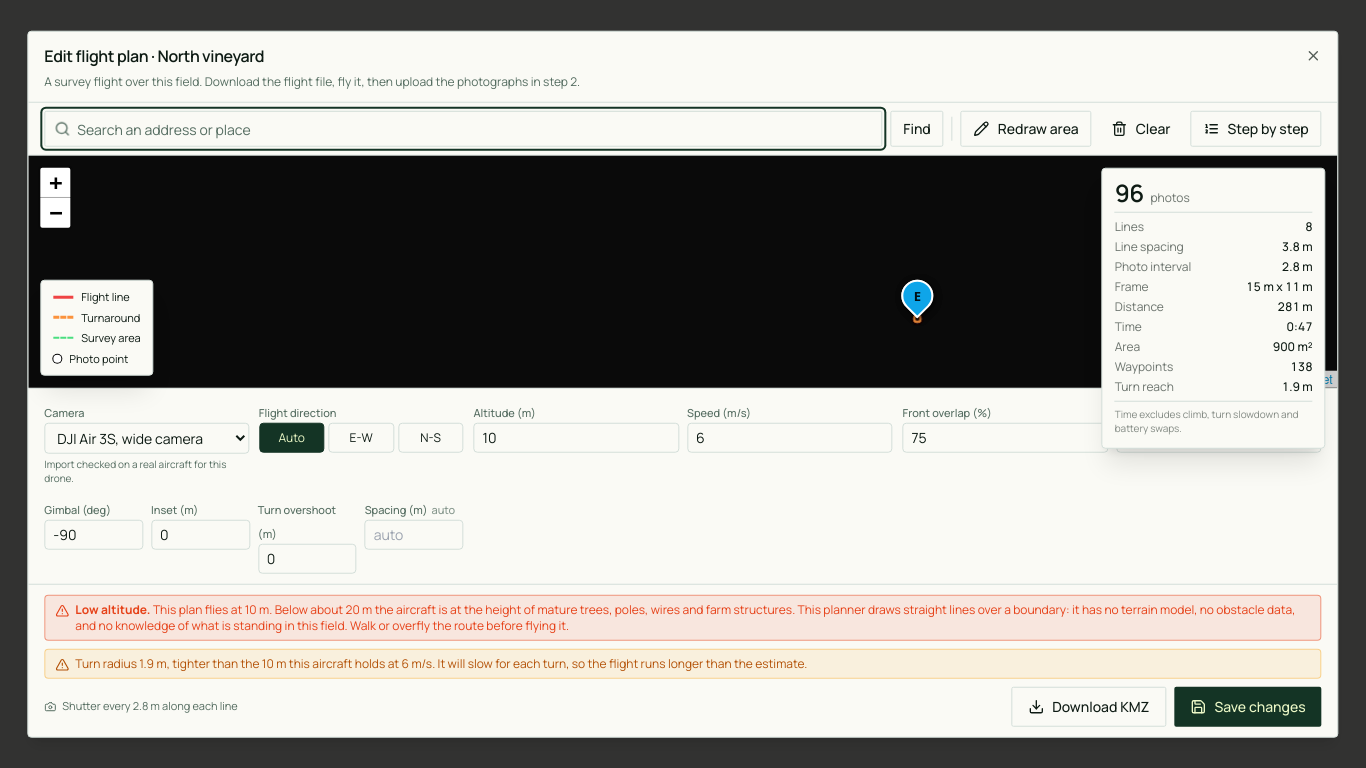
Scenario: the confirmation the operator has to answer › does not save until the confirmation is answered
Later steps or results of the test are not shown.
Click the button "Save changes" at x=1248, y=706, box [1174,686,1322,726]
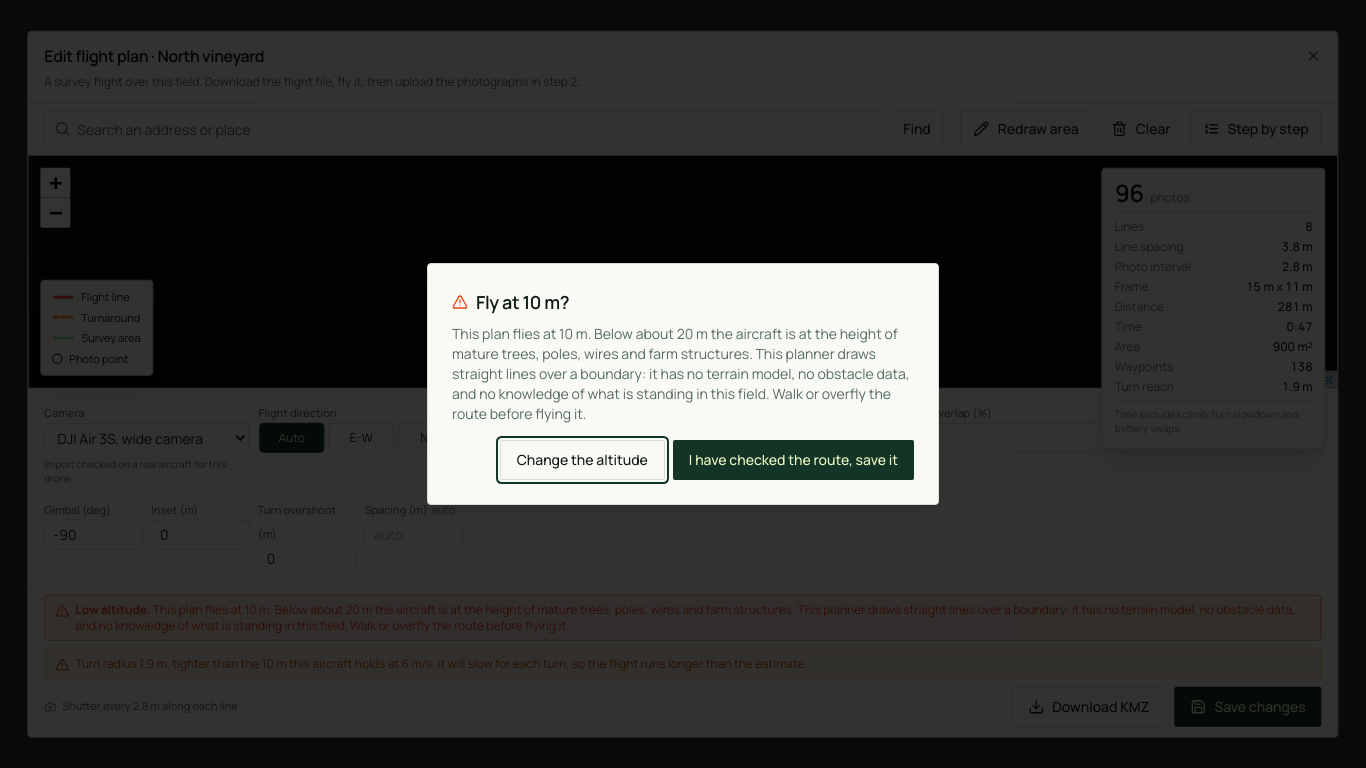
expect the dialog that starts with "Fly at" is shown: met, box [427,263,939,505]
